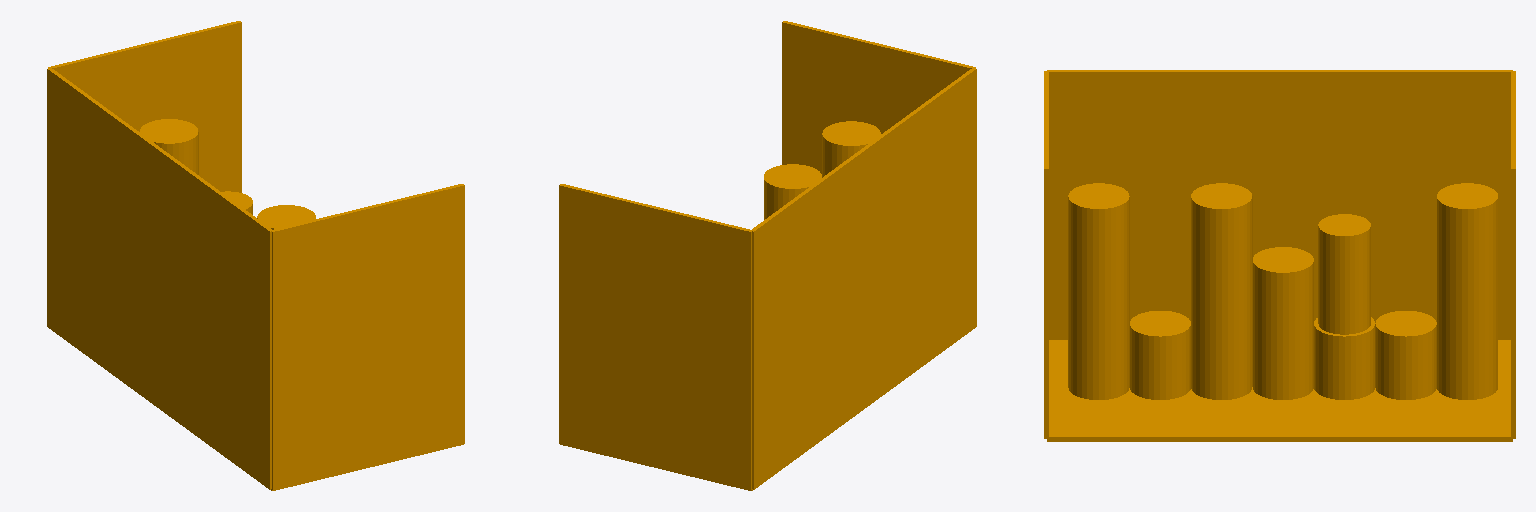
The robot description file, URDF, robot "syn_can_cabinet_packed_uniform_76":
<?xml version="1.0" ?>
<robot name="syn_can_cabinet_packed_uniform_76">
    <link concave="yes" name="base_link">
        <inertial>
            <origin rpy="0 0 0" xyz="0 0 0"/>
            <mass value="0.0"/>
            <inertia ixx="1e-08" ixy="0" ixz="0" iyy="1e-08" iyz="0" izz="1e-08"/>
        </inertial>
        <visual>
            <origin xyz="0 0 0" rpy="0 0 0" />
            <geometry>
                <mesh filename="syn_can_cabinet_packed_uniform_76.obj" scale="1.000000 1.000000 1.000000"/>
            </geometry>         
        </visual>

        <collision concave="yes">
            <origin xyz="0 0 0" rpy="0 0 0"/>
            <geometry>
                <mesh filename="syn_can_cabinet_packed_uniform_76.obj" scale="1.000000 1.000000 1.000000"/>
            </geometry>
        </collision>
    </link>
</robot>
    

--- Facts derived from the render (not from the file) ---
The picture shows the robot from 3 angles, left to right: view 1: azimuth 30°, elevation 25°; view 2: azimuth 150°, elevation 25°; view 3: azimuth 270°, elevation 25°; orthographic projection.
Robot: syn_can_cabinet_packed_uniform_76 — 1 links, 0 joints (none); root link base_link; default pose: every joint at zero.
Links seen in each view (by area): view 1: base_link; view 2: base_link; view 3: base_link.
Link boxes in pixels (x1,y1,x2,y2): base_link: (47,21,464,490); base_link: (559,21,976,490); base_link: (1044,70,1515,441).
Size in the robot's own frame: 0.2208 by 0.4445 by 0.2836 metres.
Meshes: 1 distinct files referenced, 1 mesh visuals loaded (1 OBJ).
